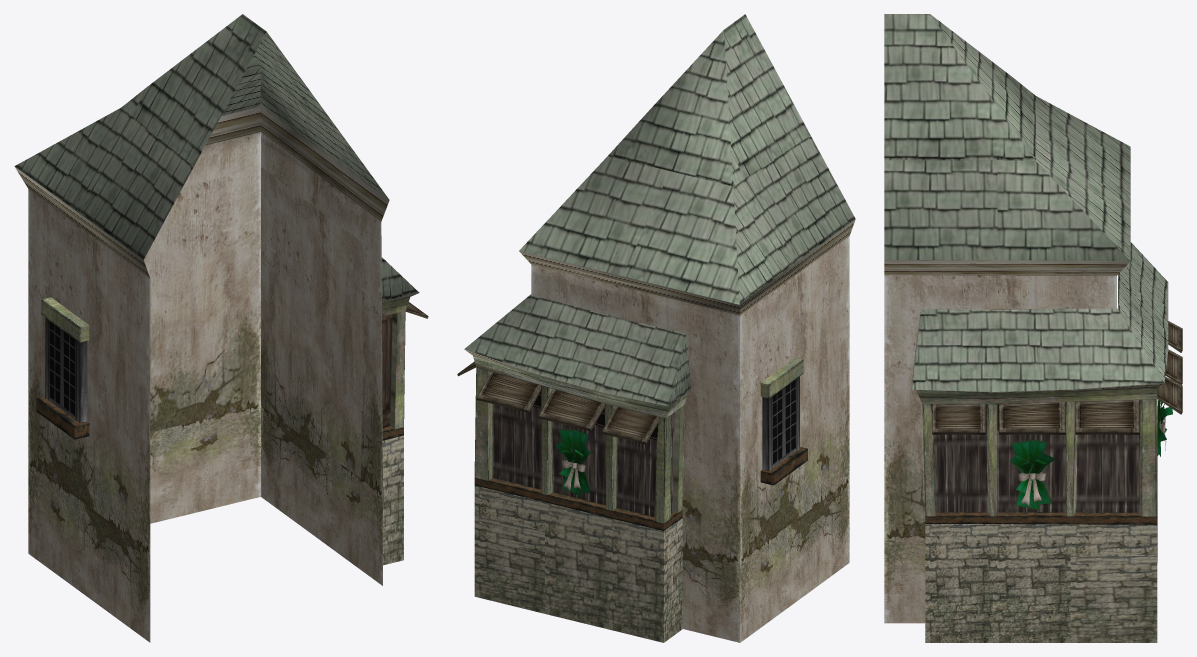
Rendered from english_corner_c.fbx.
3 renders of one model, left to right at view 1: azimuth 30°, elevation 25°; view 2: azimuth 150°, elevation 25°; view 3: azimuth 270°, elevation 25°, orthographic. The views are drawn at different scales.
Parts seen in each view (by area): view 1: buildings_shell, bay_window, window, window_1_cornice1_DUP, window_1_trim; view 2: buildings_shell, bay_window, shutters, window, window_1_cornice1_DUP, window_1_trim; view 3: bay_window, buildings_shell, shutters.
Part boxes in pixels (x1,y1,x2,y2): buildings_shell: [14, 14, 389, 642]; bay_window: [381, 257, 419, 565]; window: [45, 318, 87, 423]; window_1_cornice1_DUP: [41, 297, 89, 342]; window_1_trim: [36, 396, 89, 439]; buildings_shell: [519, 14, 855, 642]; bay_window: [464, 294, 691, 642]; shutters: [457, 361, 658, 444]; window: [762, 376, 799, 470]; window_1_cornice1_DUP: [760, 357, 803, 398]; window_1_trim: [760, 447, 807, 485]; bay_window: [912, 242, 1168, 642]; buildings_shell: [884, 14, 1130, 623]; shutters: [932, 321, 1182, 434].
Bounding box in the file's own units: 1823 × 3194 × 1554.
2 materials, 2 textured.
